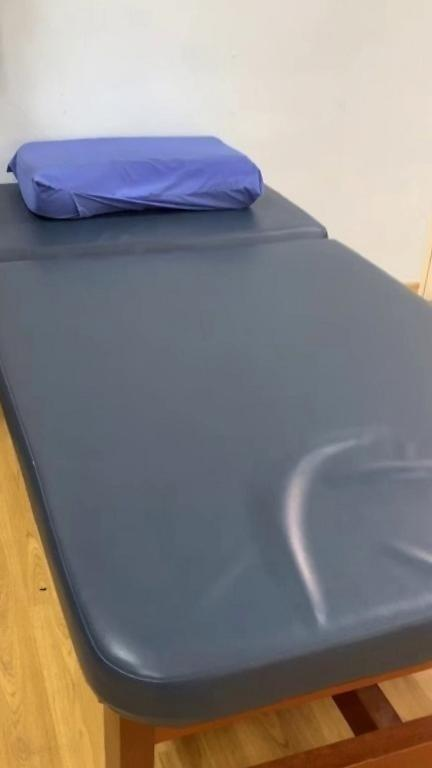bed: (0, 110, 424, 764)
